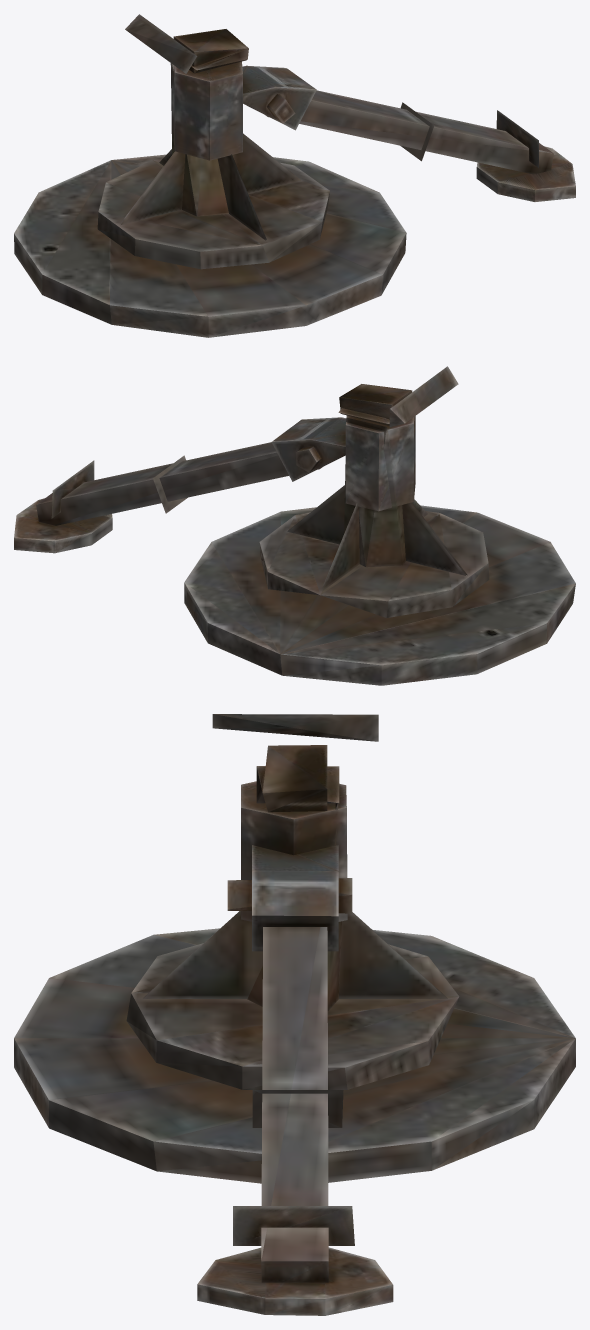
The model's file is big_rig_gun_mount.glb.
The picture shows the model from 3 angles, top to bottom: view 1: azimuth 30°, elevation 25°; view 2: azimuth 150°, elevation 25°; view 3: azimuth 270°, elevation 25°; orthographic projection. The views are drawn at different scales.
Parts seen in each view (by area): view 1: geometry_0; view 2: geometry_0; view 3: geometry_0.
Part boxes in pixels (x1,y1,x2,y2): geometry_0: (14, 14, 575, 337); geometry_0: (14, 366, 575, 685); geometry_0: (14, 714, 575, 1315).
Bounding box in the file's own units: 0.6235 × 0.2622 × 0.4072.
Materials: 1 (1 with a texture image).
